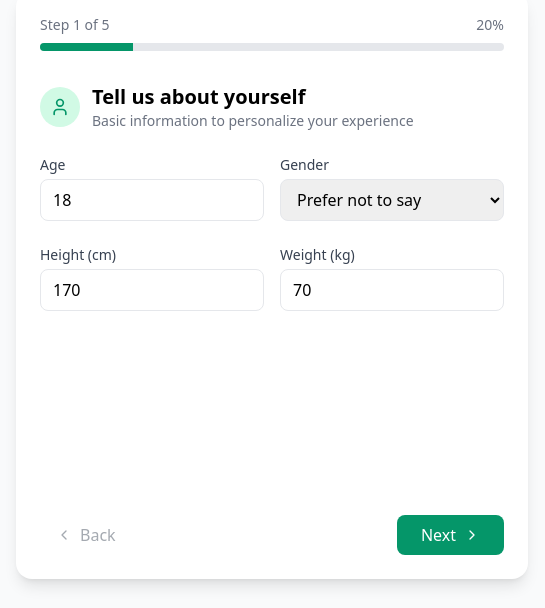
Onboarding Component › should add custom injury on step 4
This screenshot has width=545, height=608.
Click the button "Next".
click(450, 535)  # box [397, 515, 504, 555]
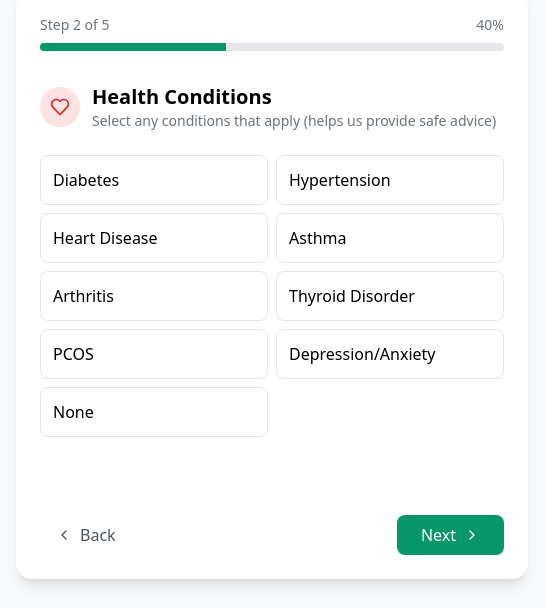
Click the button "Next".
click(450, 535)  # box [397, 515, 504, 555]
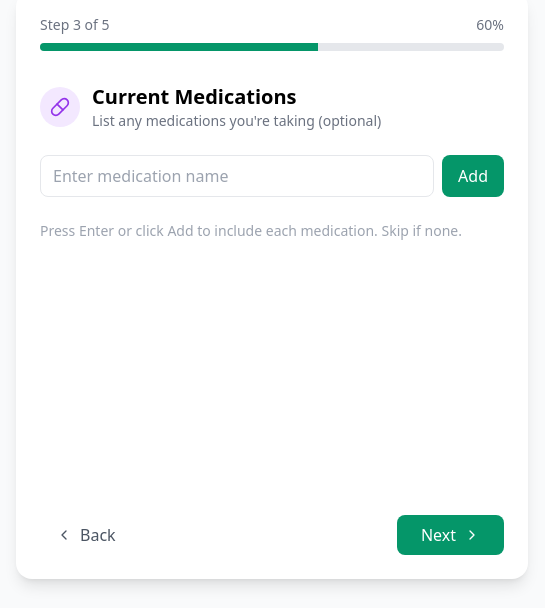
Click the button "Next".
click(450, 535)  # box [397, 515, 504, 555]
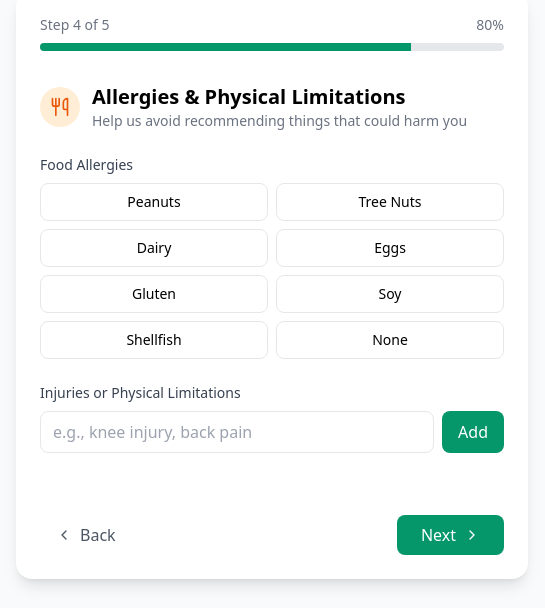
Type "Lower back pain" into the field with placeholder "e.g., knee injury, back pain".
click(237, 432); type("Lower back pain")  # box [40, 411, 434, 453]
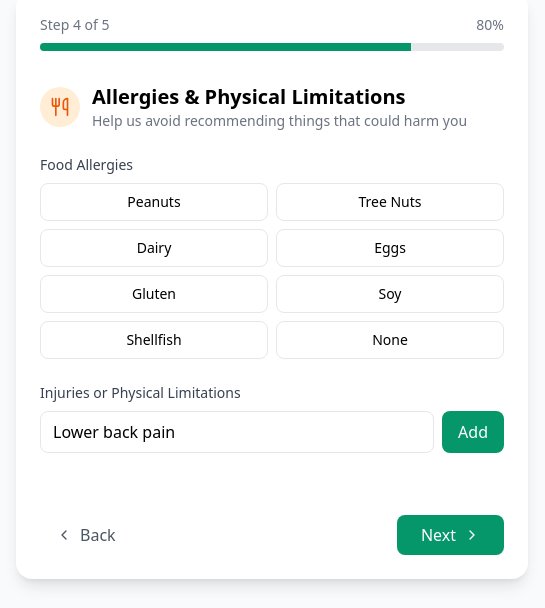
Click the button "Add".
click(473, 432)  # box [442, 411, 504, 453]
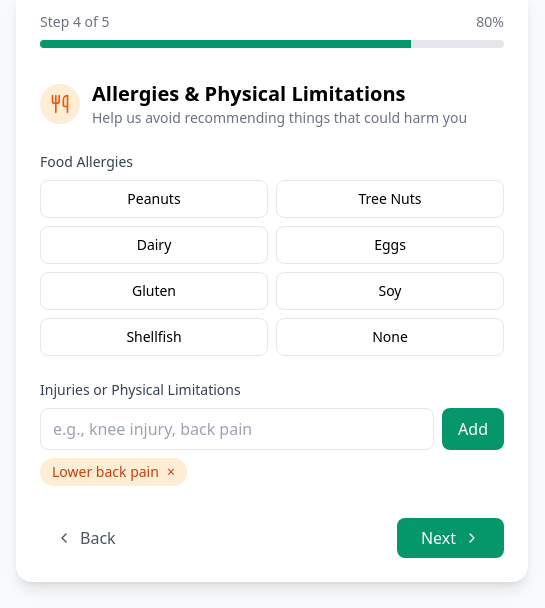
Now the text "Lower back pain" is shown, box [52, 462, 159, 481]
